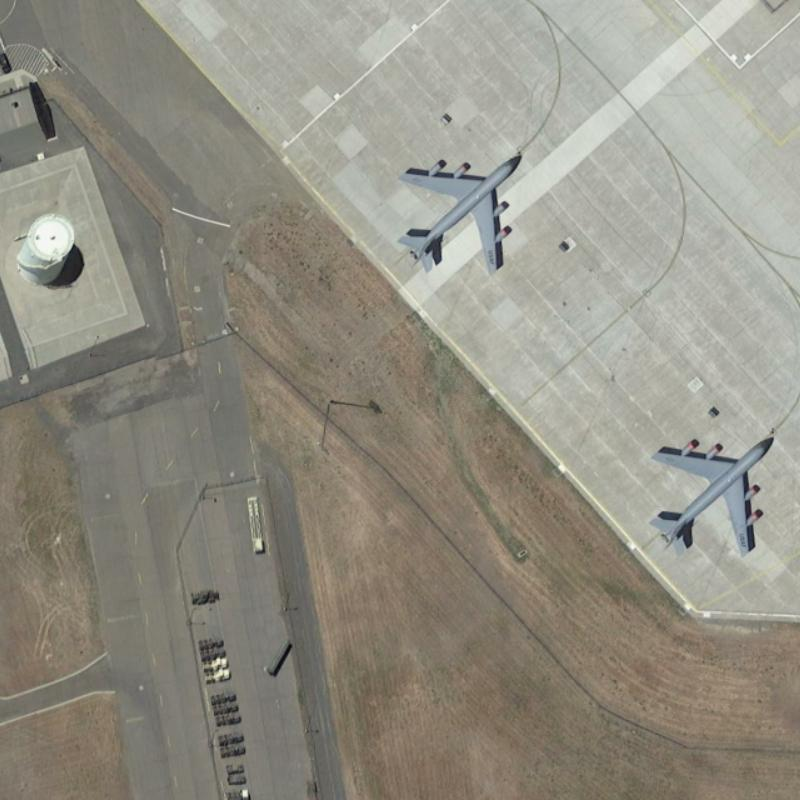A14: (643, 416, 776, 562), (396, 134, 527, 277)
